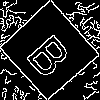B: (24, 25, 81, 81)
